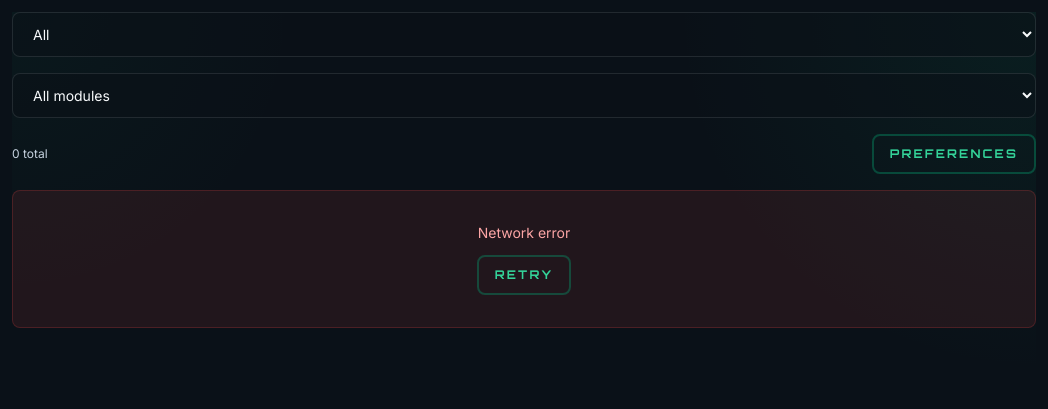
Test: NotificationsPageClient › retries the load and renders the empty state only after success
This screenshot has width=1048, height=409.
Expected: the message "Network error Retry" is shown, [12,190,1036,328]
Click the button "Retry" at point(524, 275), box [477,255,571,295]
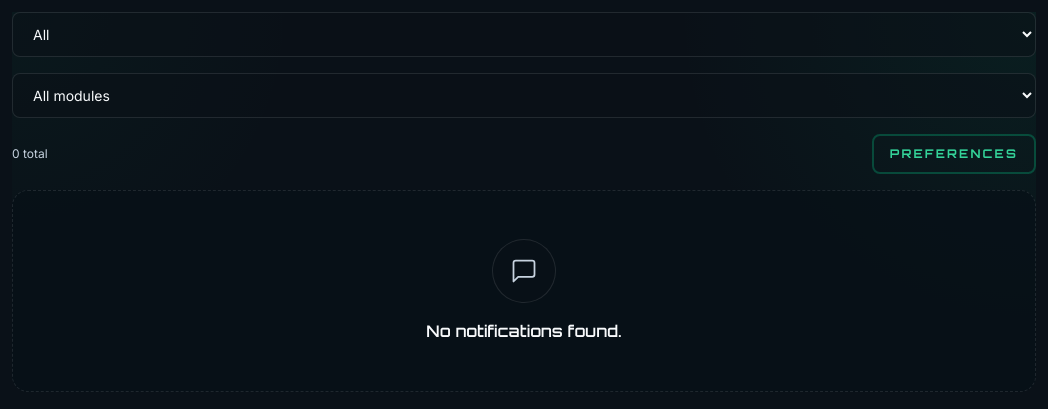
Expected: the heading "No notifications found." is shown, [426,321,622,341]
Expected: the message "Network error Retry" is gone
